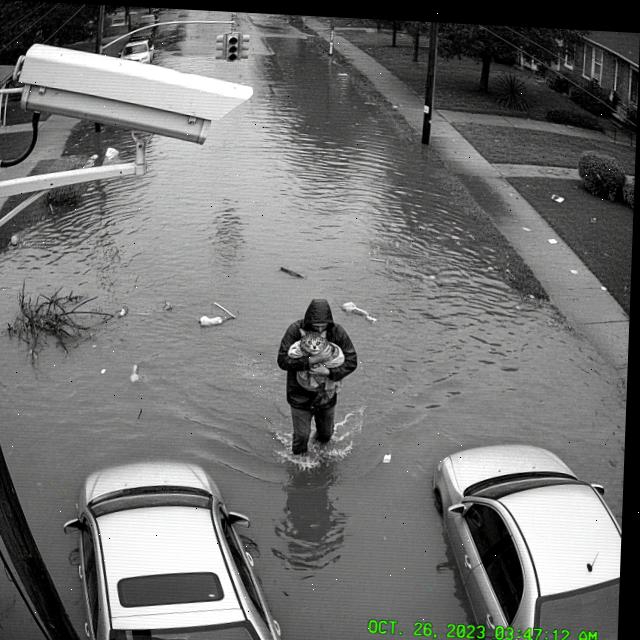cat: (289, 326, 347, 395)
civilian: (267, 287, 366, 471)
